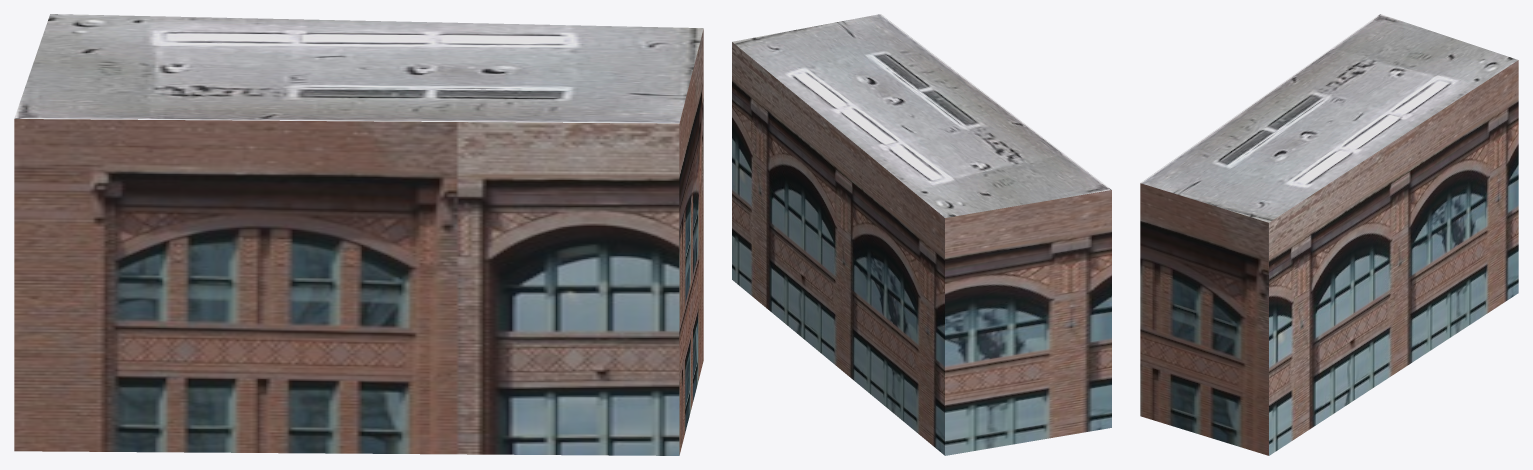
The model's file is EduTex__5.fbx.
3 views of the same model, side by side, from view 1: azimuth 30°, elevation 25°; view 2: azimuth 150°, elevation 25°; view 3: azimuth 270°, elevation 25° (orthographic). The views are drawn at different scales.
Visible parts, largest first — view 1: CityEngineMaterial_7_m, CityEngineMaterial_4_m; view 2: CityEngineMaterial_7_m, CityEngineMaterial_4_m; view 3: CityEngineMaterial_7_m, CityEngineMaterial_4_m.
Part boxes in pixels (left/top/right/bottom): CityEngineMaterial_7_m: left=14, top=29, right=703, bottom=455; CityEngineMaterial_4_m: left=14, top=14, right=703, bottom=123; CityEngineMaterial_7_m: left=732, top=42, right=1111, bottom=455; CityEngineMaterial_4_m: left=732, top=14, right=1111, bottom=217; CityEngineMaterial_7_m: left=1140, top=60, right=1518, bottom=455; CityEngineMaterial_4_m: left=1140, top=14, right=1517, bottom=222.
Bounding box in the file's own units: 11.53 × 6 × 8.82.
2 materials, 2 textured.
